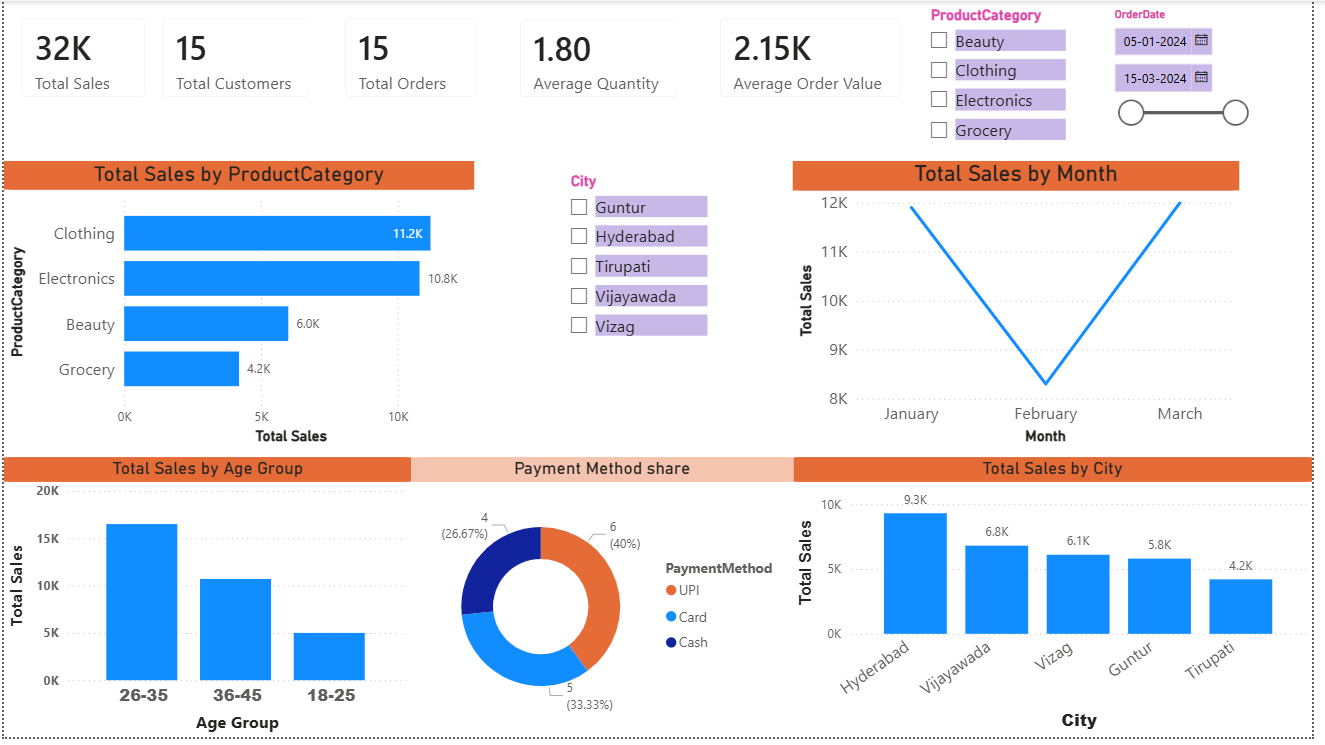

The dashboard page shown, as its layout file describes it:
{"tool":"powerbi","page":{"name":"Page 1","canvas":[1280,720],"ordinal":0},"visuals":[{"type":"cardVisual","fields":{"Data":["sales_task2.Total Sales"]},"box":[0,0,155.8,111.1],"z":0},{"type":"cardVisual","fields":{"Data":["sales_task2.Total Orders"]},"box":[316.2,0,162.5,111.2],"z":1},{"type":"cardVisual","fields":{"Data":["sales_task2.Total Customers"]},"box":[138.8,0,177.5,111.2],"z":2},{"type":"cardVisual","fields":{"Data":["sales_task2.Average Order Value"]},"box":[683.3,0,211.7,111.7],"z":3},{"type":"cardVisual","fields":{"Data":["sales_task2.Average Quantity"]},"box":[488.3,1.7,188.3,110],"z":4},{"type":"clusteredBarChart","fields":{"Category":["sales_task2.ProductCategory"],"Y":["sales_task2.Total Sales"]},"box":[0,156.5,459.8,282.5],"z":5},{"type":"lineChart","fields":{"Category":["sales_task2.OrderDate.Variation.Date Hierarchy.Month"],"Y":["sales_task2.Total Sales"]},"box":[771.6,156.5,436.6,282.5],"z":6},{"type":"clusteredColumnChart","fields":{"Category":["sales_task2.City"],"Y":["sales_task2.Total Sales"]},"box":[771.7,446.7,508.3,273.3],"z":7},{"type":"donutChart","title":"Payment Method share","fields":{"Category":["sales_task2.PaymentMethod"],"Y":["CountNonNull(sales_task2.OrderID)"]},"box":[398.3,446.7,373.3,273.3],"z":8},{"type":"clusteredColumnChart","fields":{"Category":["sales_task2.Age Group"],"Y":["sales_task2.Total Sales"]},"box":[0,446.3,398.6,273.9],"z":9},{"type":"slicer","fields":{"Values":["sales_task2.OrderDate"]},"box":[1073.6,1.2,151.6,139.4],"z":10},{"type":"slicer","fields":{"Values":["sales_task2.City"]},"box":[541.7,162.6,151.6,194.4],"z":11},{"type":"slicer","fields":{"Values":["sales_task2.ProductCategory"]},"box":[893.3,0,150,155],"z":12}]}

Visuals, with their boxes in screenshot pixels (x1, y1, x2, y2), scaled from the page's 1280x720 canvas onto the 1325x745 screenshot:
cardVisual - sales_task2.Total Sales: detection(0, 0, 161, 115)
cardVisual - sales_task2.Total Orders: detection(327, 0, 496, 115)
cardVisual - sales_task2.Total Customers: detection(144, 0, 327, 115)
cardVisual - sales_task2.Average Order Value: detection(707, 0, 926, 116)
cardVisual - sales_task2.Average Quantity: detection(505, 2, 700, 116)
clusteredBarChart - sales_task2.ProductCategory x sales_task2.Total Sales: detection(0, 162, 476, 454)
lineChart - sales_task2.OrderDate.Variation.Date Hierarchy.Month x sales_task2.Total Sales: detection(799, 162, 1251, 454)
clusteredColumnChart - sales_task2.City x sales_task2.Total Sales: detection(799, 462, 1324, 744)
"Payment Method share" donutChart: detection(412, 462, 799, 744)
clusteredColumnChart - sales_task2.Age Group x sales_task2.Total Sales: detection(0, 462, 413, 744)
slicer - sales_task2.OrderDate: detection(1111, 1, 1268, 145)
slicer - sales_task2.City: detection(561, 168, 718, 369)
slicer - sales_task2.ProductCategory: detection(925, 0, 1080, 160)
